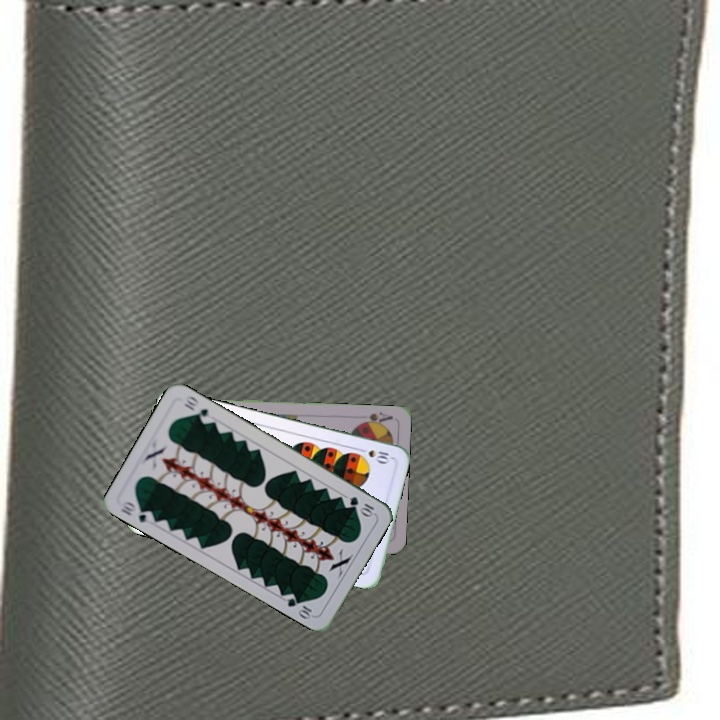G10: (117, 496, 157, 526), (346, 492, 377, 519)
S10: (354, 444, 391, 465)
SA: (354, 408, 395, 428)
